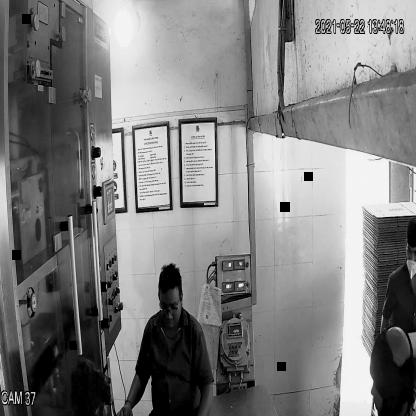goggles: (156, 299, 182, 320)
